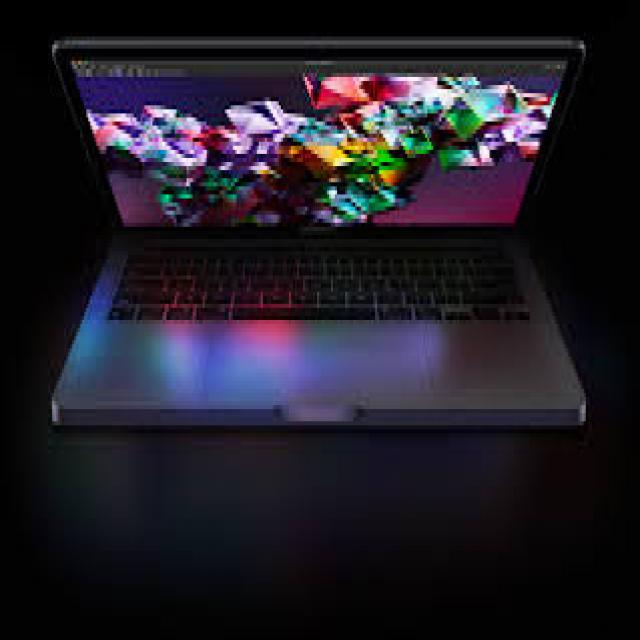others: (38, 4, 588, 446)
